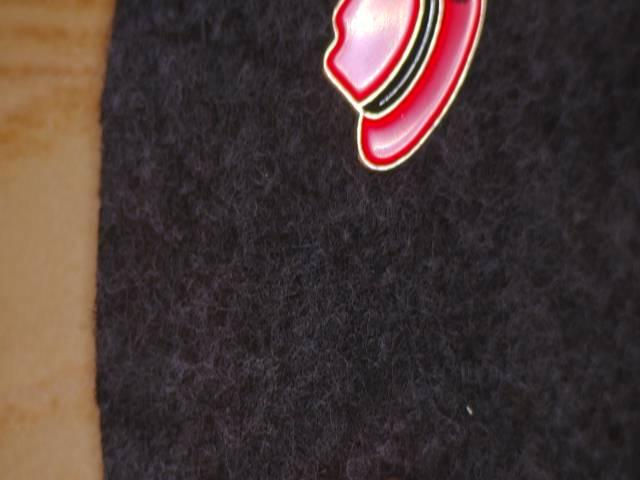Red-Hat: (307, 0, 517, 192)
